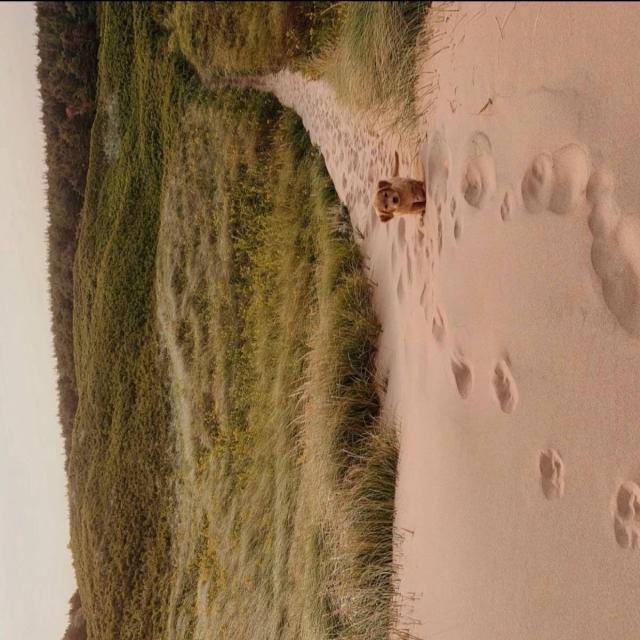Dogs: (368, 165, 430, 229)
